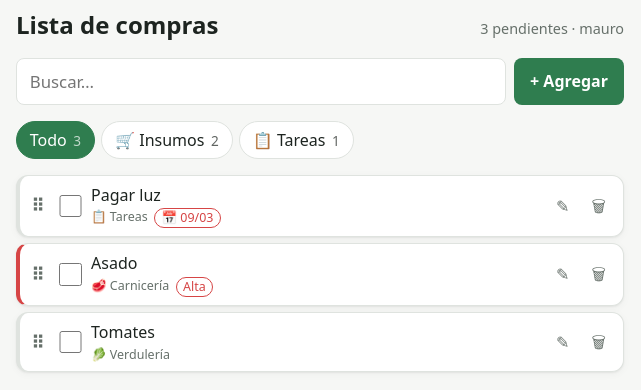
Test: App › borra un ítem solo si se confirma
Expected: the text "Asado" is shown, [91,252,137,274]
Click the button named "Borrar Asado" at [599, 274], box [581,256,617,292]
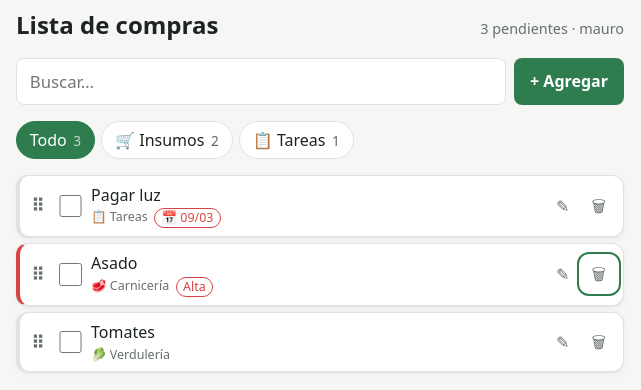
Expected: the text "Asado" is shown, [91,252,137,274]
Click the button named "Borrar Asado" at [599, 274], box [581,256,617,292]
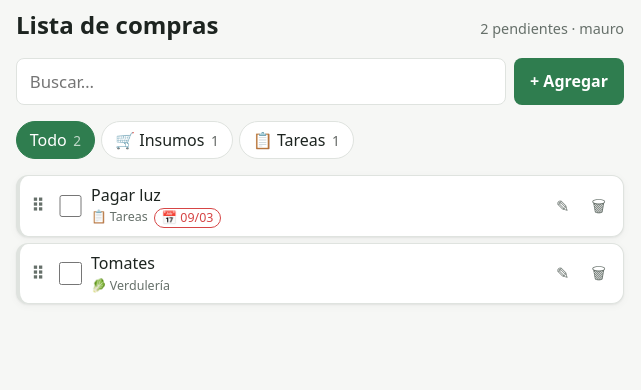
Expected: the text "Asado" is gone
